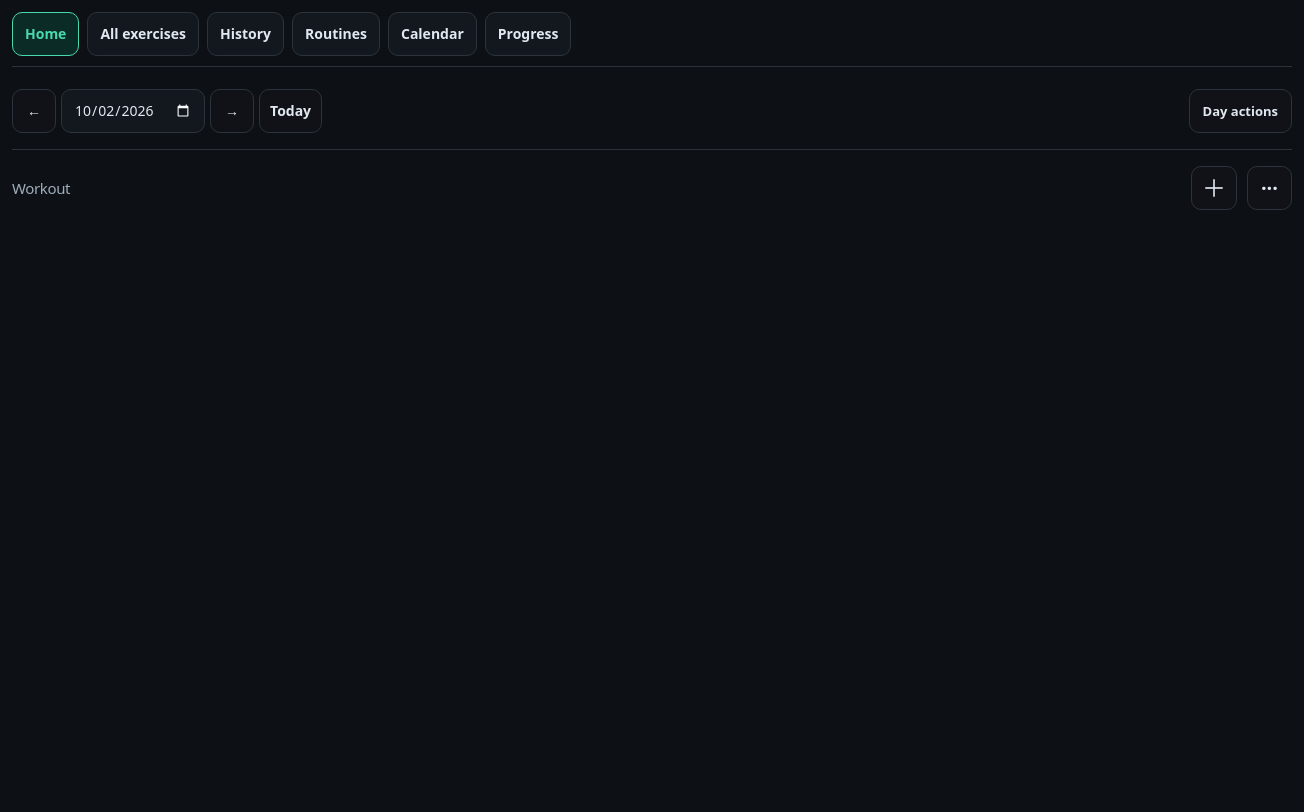
Test: opens the exercise picker for an empty saved Home session
The width and height of the screenshot is (1304, 812).
What coordinates should you click on to do the following:
click the button named "Add exercise"
I would click on:
 (1214, 188)
Its box is 1191,166 -> 1237,210.
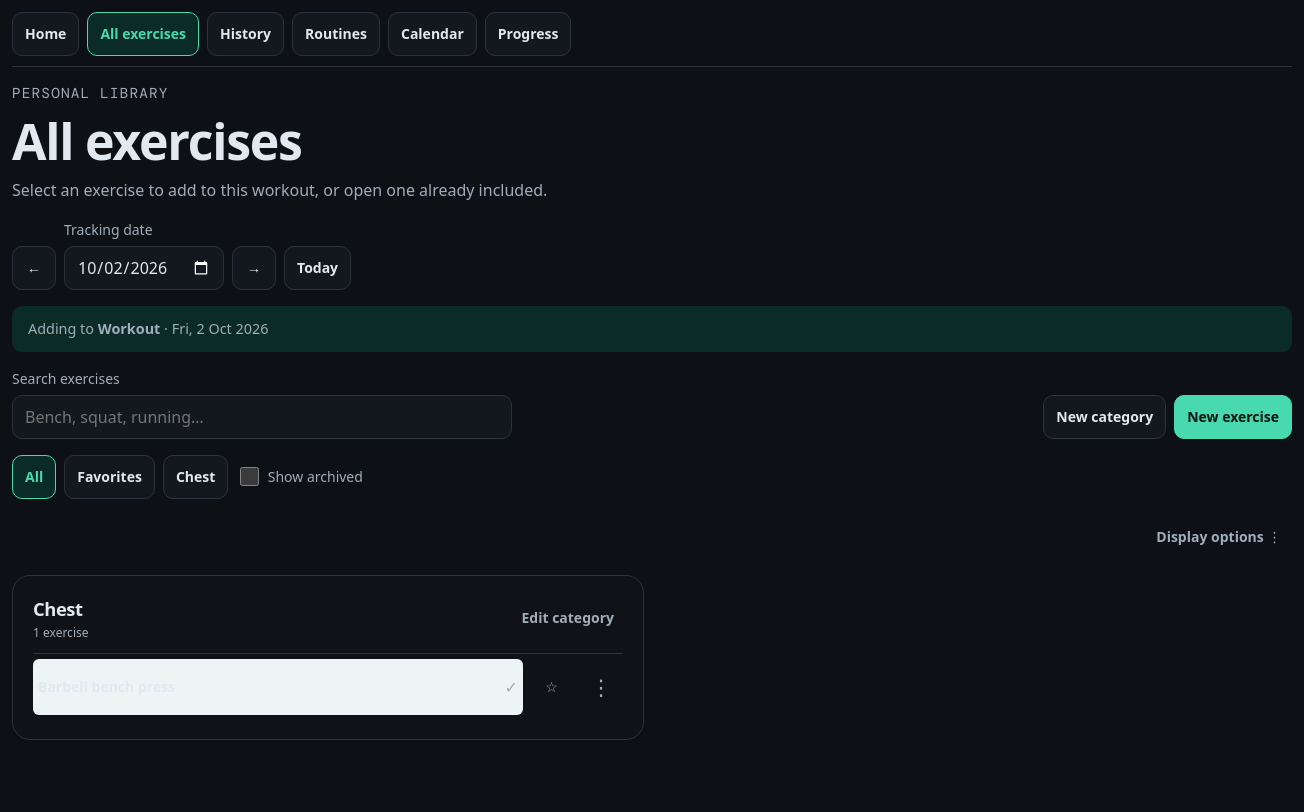
Now the heading "All exercises" is shown, box 12,107 -> 302,175
